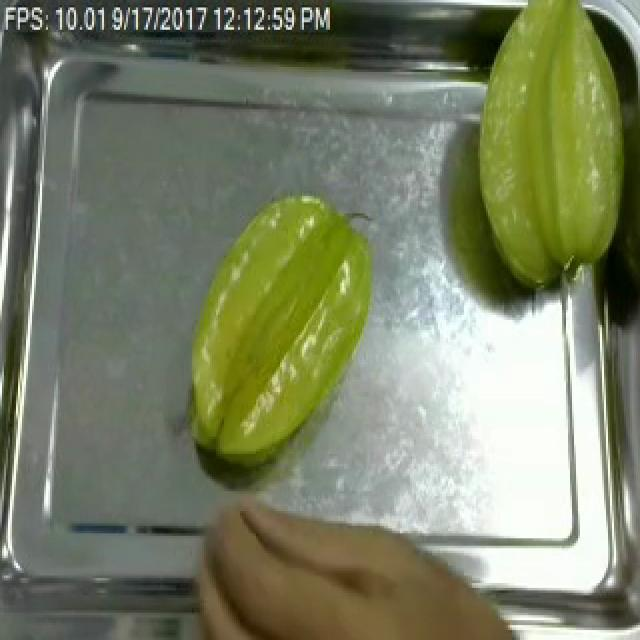fruit: (174, 181, 384, 476), (462, 2, 640, 298), (180, 513, 530, 640)
